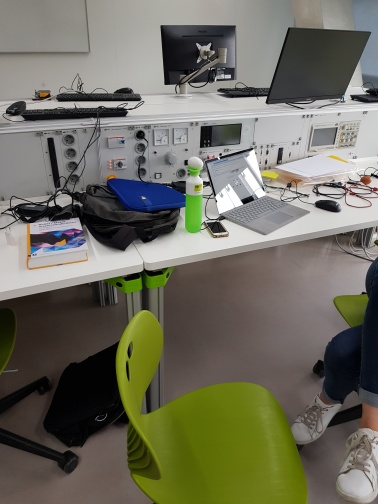egg: (187, 155, 205, 169)
